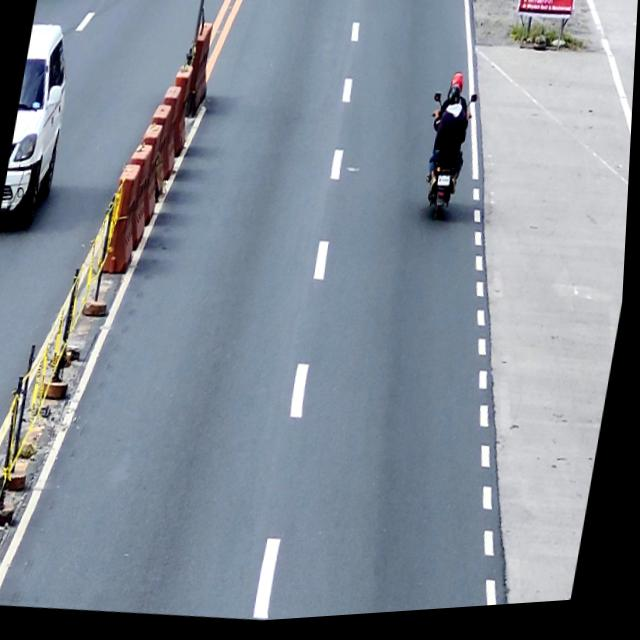Car: (0, 19, 80, 230)
License-Plate: (437, 177, 454, 195)
Motorcycle: (415, 94, 479, 229)
